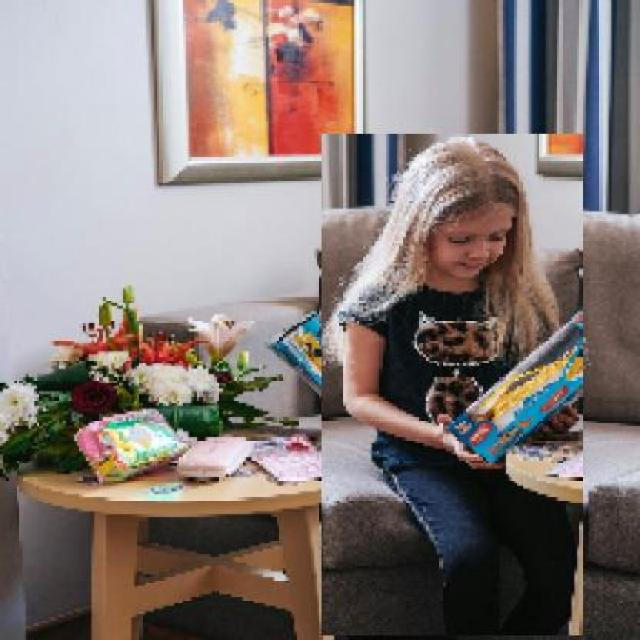child: (320, 134, 583, 637)
